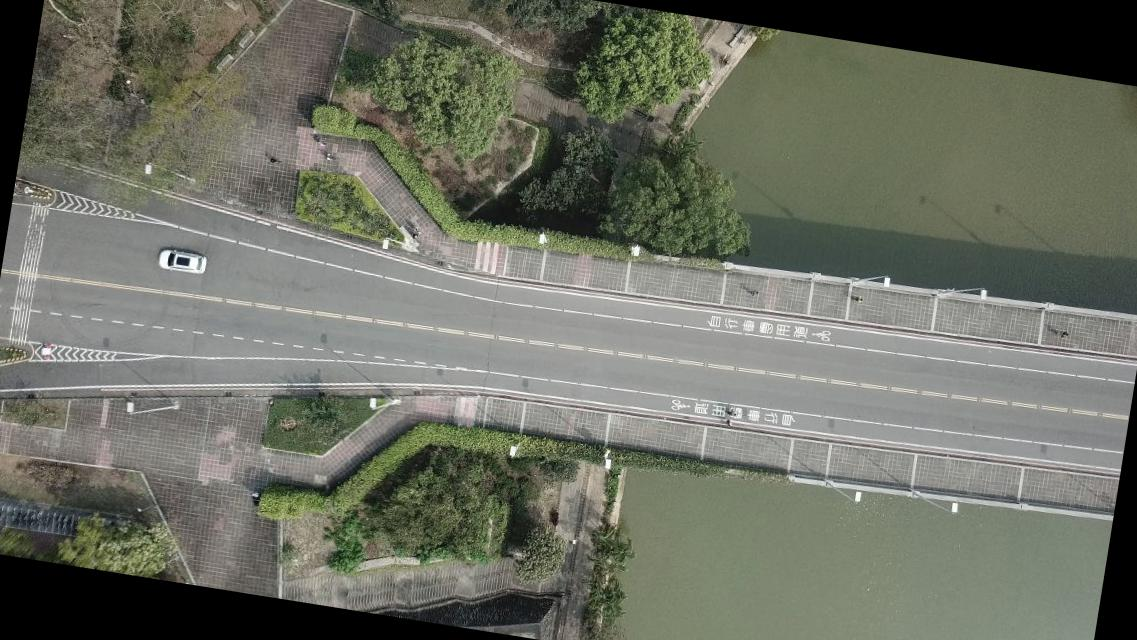vehicle: (157, 246, 208, 276)
